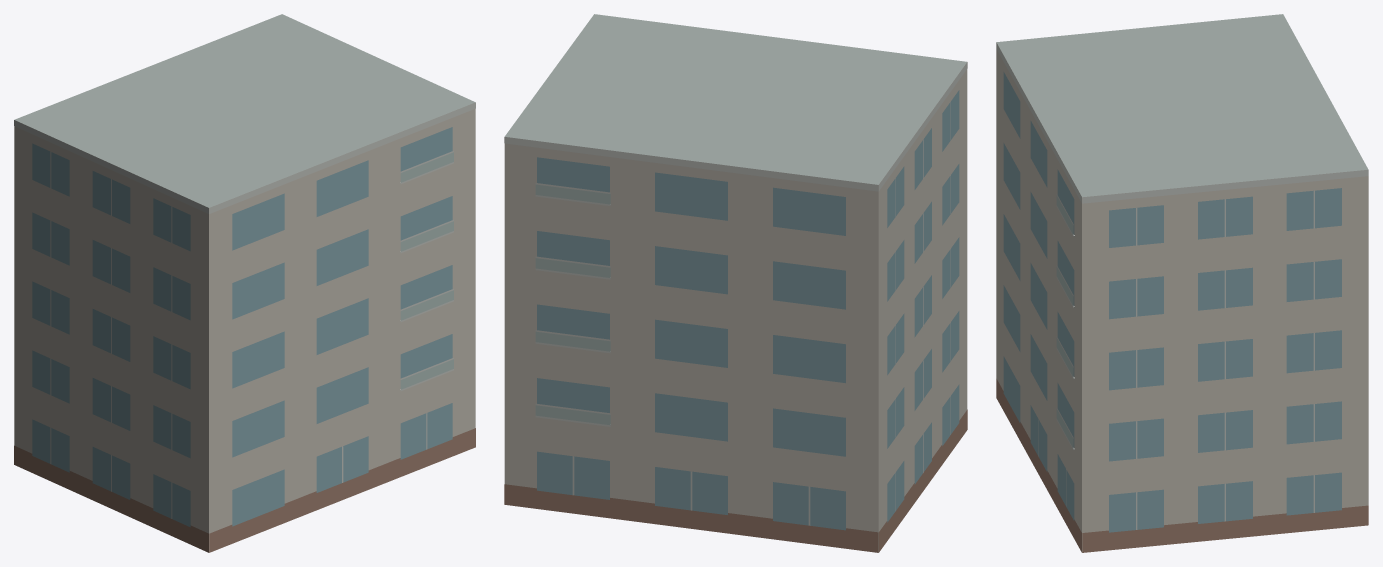
Rendered from survey-upis-32999546.glb.
3 renders of one model, left to right at view 1: azimuth 30°, elevation 25°; view 2: azimuth 150°, elevation 25°; view 3: azimuth 270°, elevation 25°, orthographic. The views are drawn at different scales.
Visible parts, largest first — view 1: survey-upis-32999546.tmp; view 2: survey-upis-32999546.tmp; view 3: survey-upis-32999546.tmp.
Boxes of the visible parts, x1,y1,x2,y2 form: survey-upis-32999546.tmp: (14,14,475,552); survey-upis-32999546.tmp: (504,14,967,552); survey-upis-32999546.tmp: (996,14,1368,552).
Bounding box in the file's own units: 14.93 × 13.5 × 12.82.
